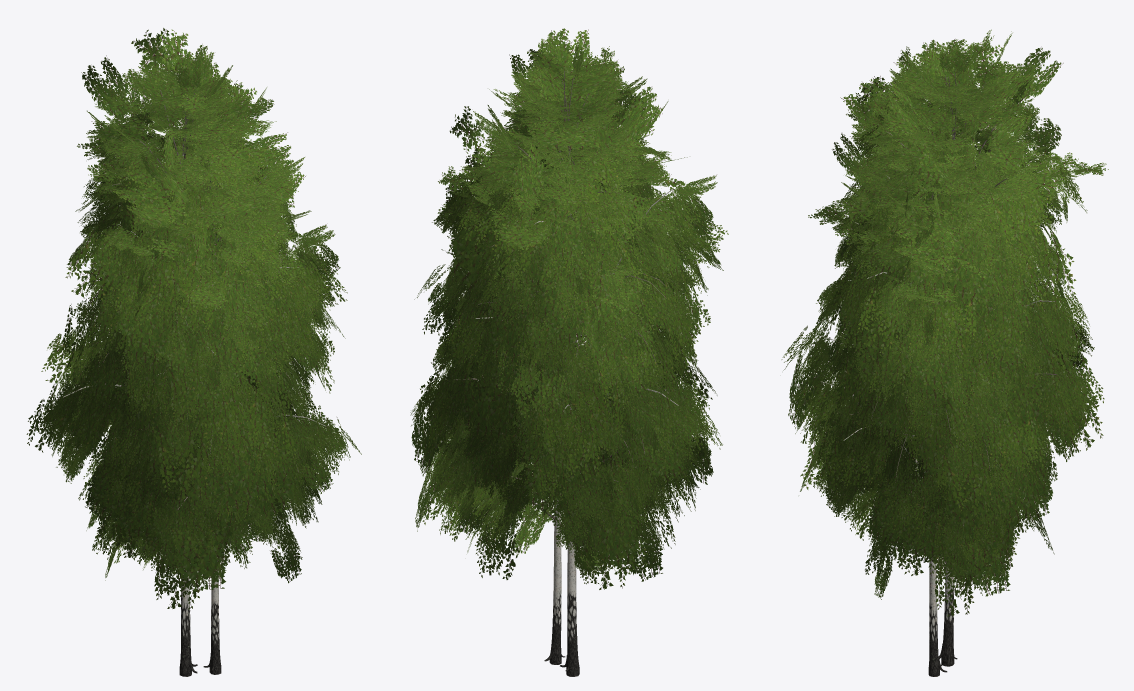
The model's file is BirchCoppice.glb.
3 views of the same model, side by side, from view 1: azimuth 30°, elevation 25°; view 2: azimuth 150°, elevation 25°; view 3: azimuth 270°, elevation 25° (orthographic). The views are drawn at different scales.
Parts seen in each view (by area): view 1: leaves_lod1 (×2), trunk_lod1 (×2); view 2: leaves_lod1 (×2), trunk_lod1 (×2), branches_lod1; view 3: leaves_lod1 (×2), trunk_lod1 (×2).
Part boxes in pixels (x1,y1,x2,y2): leaves_lod1 (×2): (26, 28, 361, 610); trunk_lod1 (×2): (179, 144, 221, 676); leaves_lod1 (×2): (410, 28, 728, 589); trunk_lod1 (×2): (544, 148, 579, 676); branches_lod1: (454, 71, 678, 483); leaves_lod1 (×2): (781, 29, 1108, 616); trunk_lod1 (×2): (928, 138, 957, 676).
Size of the model in its own units: 7.24 by 14.07 by 6.98.
3 materials, 3 textured.
